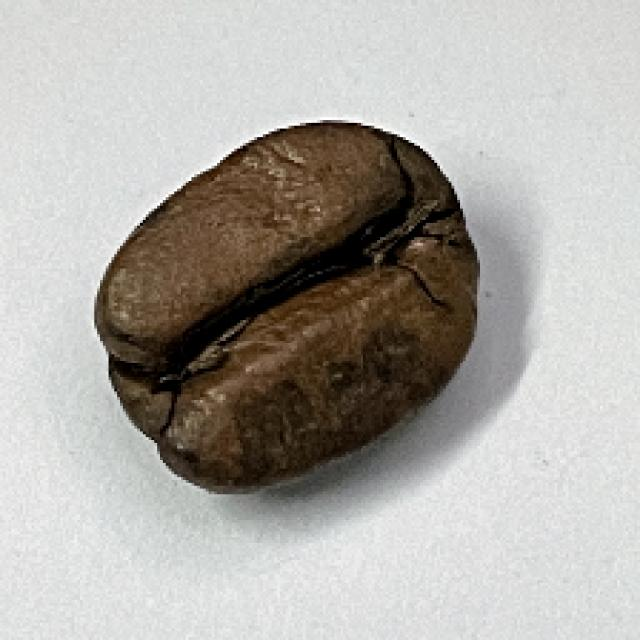bean: (92, 118, 486, 497)
